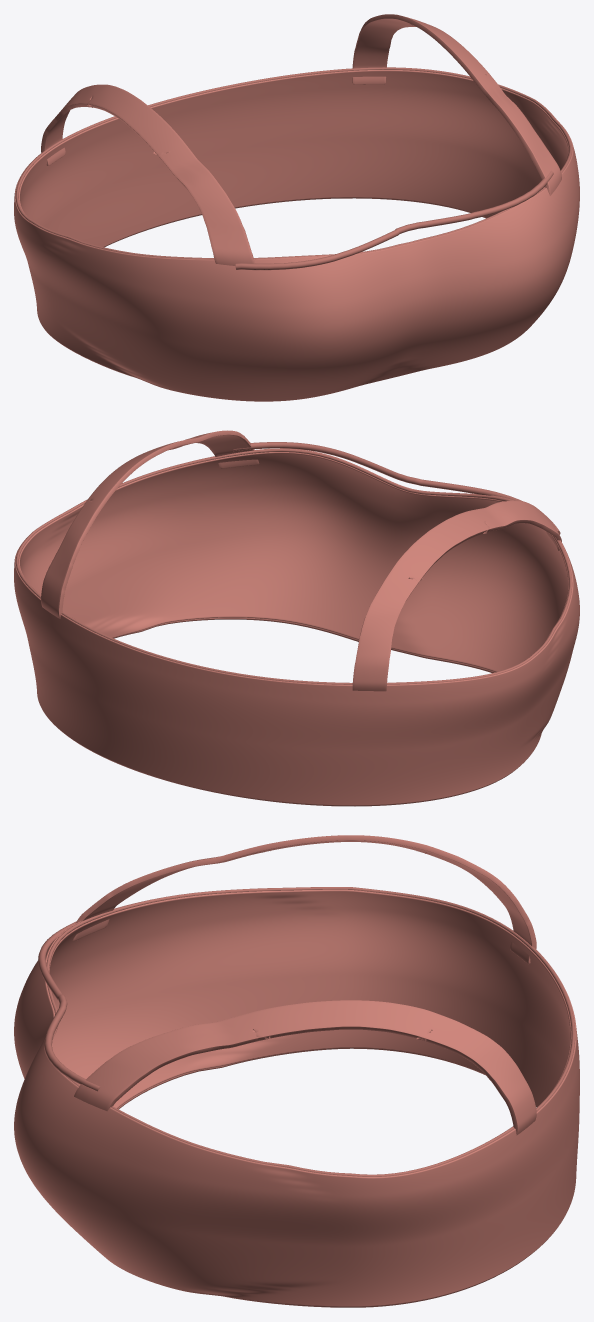
File: Feminine-strappy-top.glb
The picture shows the model from 3 angles, top to bottom: view 1: azimuth 30°, elevation 25°; view 2: azimuth 150°, elevation 25°; view 3: azimuth 270°, elevation 25°; orthographic projection. The views are drawn at different scales.
Visible parts, largest first — view 1: Clothing / strappy body, Clothing / strappy strap -1, Clothing / strappy strap 1, strappy body / bound edge.001 export, Crop / seated diagonal strap export, strappy body / bound edge export; view 2: Clothing / strappy body, Clothing / strappy strap -1, Clothing / strappy strap 1, strappy body / bound edge.001 export, Crop / seated diagonal strap export, strappy body / bound edge export; view 3: Clothing / strappy body, Clothing / strappy strap 1, Clothing / strappy strap -1, strappy body / bound edge.001 export, Crop / seated diagonal strap export, strappy body / bound edge export.
Part boxes in pixels (x1,y1,x2,y2): Clothing / strappy body: [14, 70, 579, 401]; Clothing / strappy strap -1: [41, 84, 255, 266]; Clothing / strappy strap 1: [352, 14, 561, 195]; strappy body / bound edge.001 export: [15, 67, 572, 259]; Crop / seated diagonal strap export: [235, 170, 553, 270]; strappy body / bound edge export: [63, 197, 486, 376]; Clothing / strappy body: [14, 448, 579, 805]; Clothing / strappy strap -1: [352, 500, 561, 691]; Clothing / strappy strap 1: [41, 430, 259, 618]; strappy body / bound edge.001 export: [15, 449, 572, 684]; Crop / seated diagonal strap export: [233, 442, 560, 534]; strappy body / bound edge export: [73, 617, 512, 806]; Clothing / strappy body: [14, 889, 579, 1306]; Clothing / strappy strap 1: [74, 1000, 536, 1135]; Clothing / strappy strap -1: [73, 835, 536, 964]; strappy body / bound edge.001 export: [46, 887, 575, 1176]; Crop / seated diagonal strap export: [38, 921, 99, 1091]; strappy body / bound edge export: [117, 1047, 518, 1307].
Size of the model in its own units: 0.6458 by 0.2847 by 0.5334.
